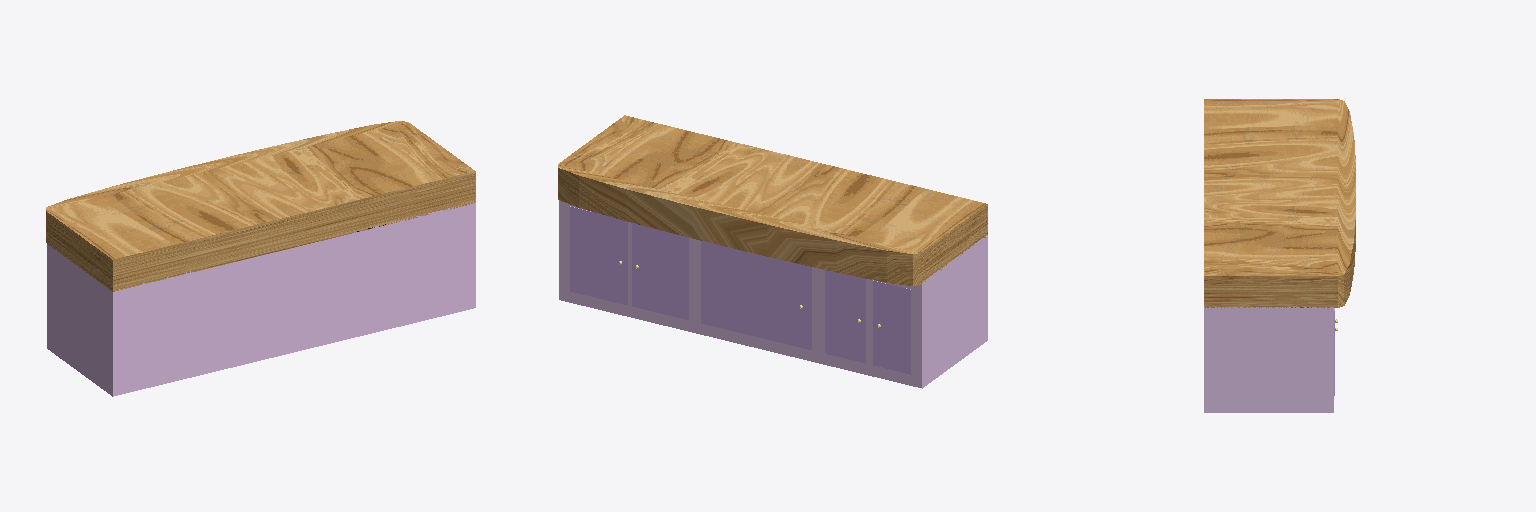
The picture shows the model from 3 angles: view 1: azimuth 30°, elevation 25°; view 2: azimuth 150°, elevation 25°; view 3: azimuth 270°, elevation 25°; orthographic projection.
Visible parts, largest first — view 1: polySurface52; view 2: polySurface52; view 3: polySurface52.
Boxes of the visible parts, x1,y1,x2,y2 form: polySurface52: [46, 121, 475, 396]; polySurface52: [558, 115, 987, 388]; polySurface52: [1204, 99, 1355, 412].
Size of the model in its own units: 0.4784 by 0.1725 by 0.1745.
Materials: 11 (4 with a texture image).